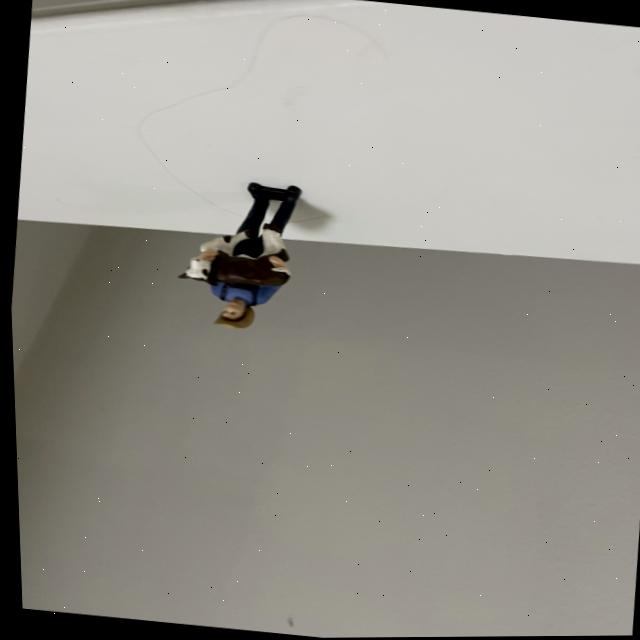cow: (175, 228, 288, 286)
person: (206, 282, 276, 332)
